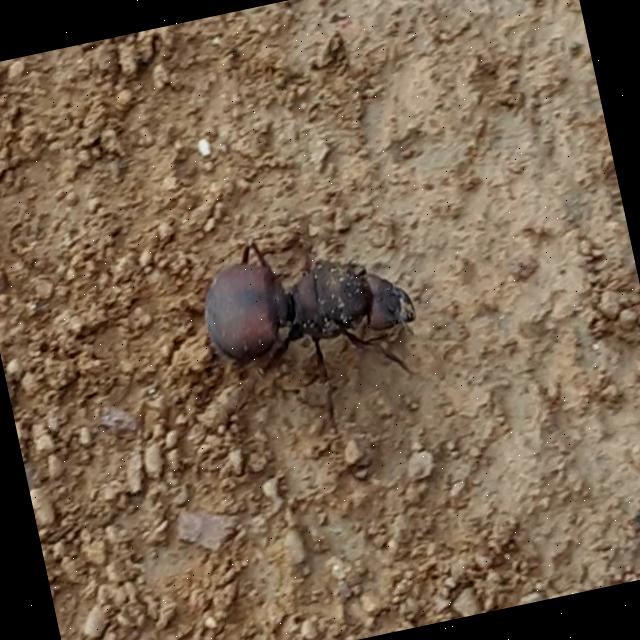Alive-Female-Dealate: (190, 202, 478, 456)
